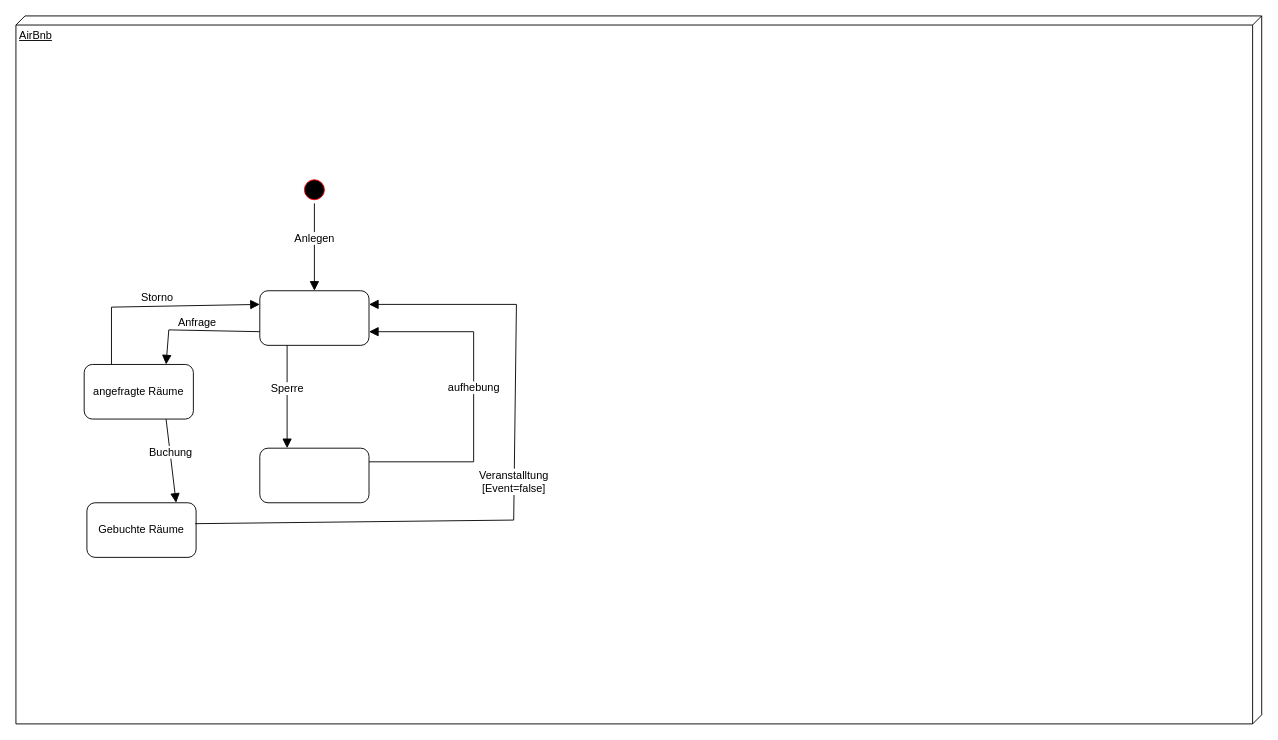
Image size: 1278x740. Some labels were removed from this diagram. The shapes that lost their labels are listed below. From the top down, each one's centre as x and y in pixels, then its label:
[314,317]: Freier Raum
[314,475]: gesperrter Raum
